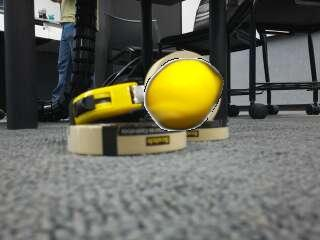lemon: (147, 60, 222, 129)
